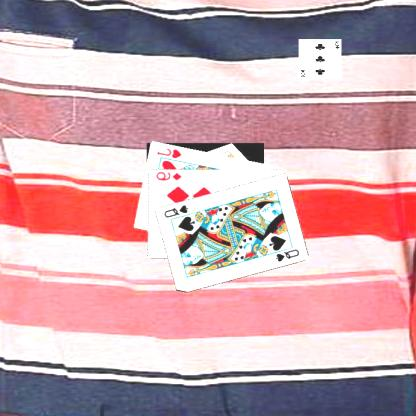9D: (155, 170, 184, 182)
JH: (156, 145, 185, 159)
QS: (163, 202, 191, 219), (274, 246, 302, 263)
